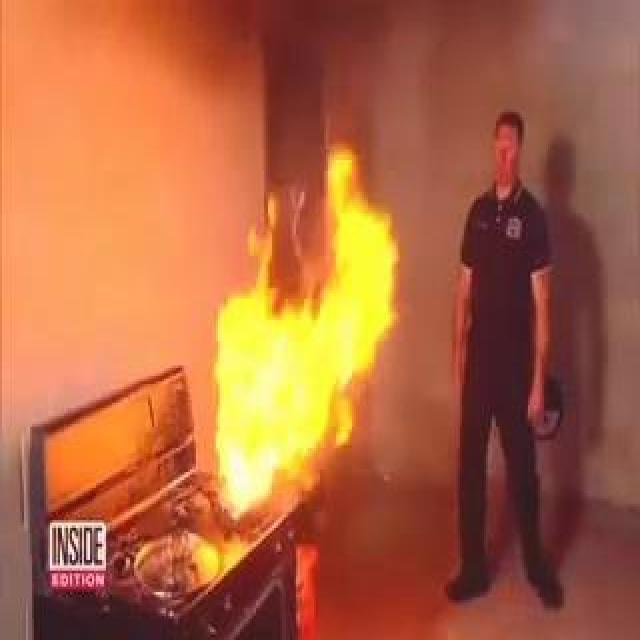Fire: (202, 121, 412, 514)
